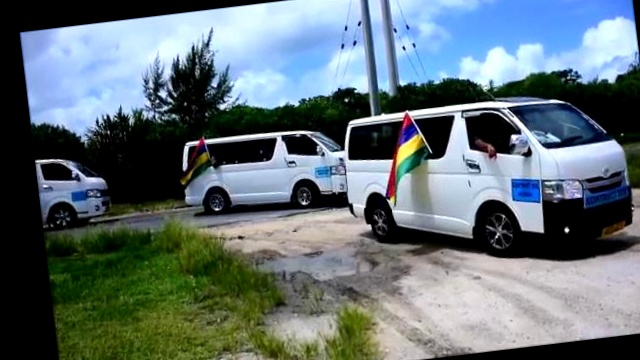van: (335, 86, 640, 285), (179, 117, 357, 226)
